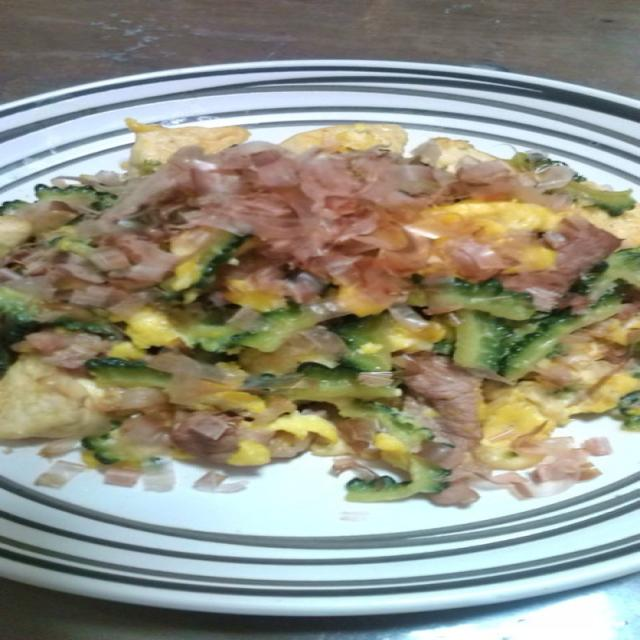熟制海鲜: (0, 64, 640, 613)
